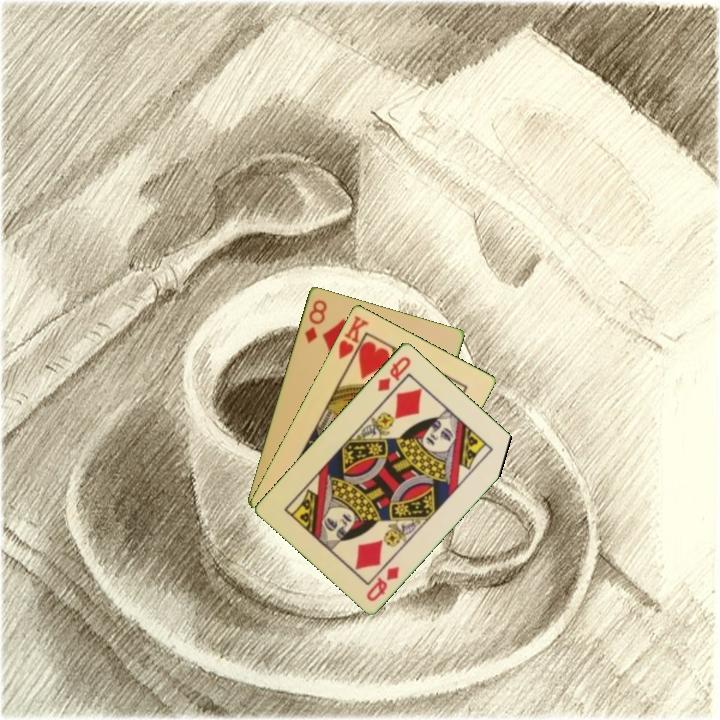8d: (301, 296, 330, 346)
Kh: (335, 311, 372, 369)
Qd: (374, 352, 414, 394), (363, 562, 402, 604)
